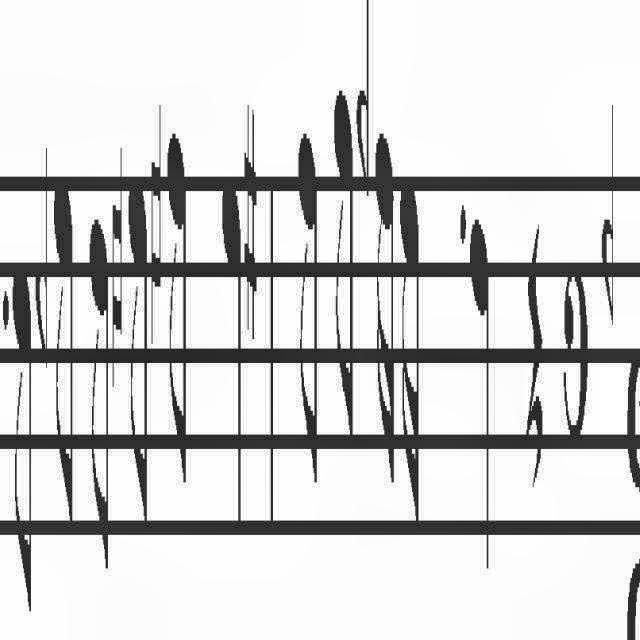Bemol: (601, 96, 619, 336), (356, 0, 375, 204), (36, 139, 50, 373)
Diez: (242, 83, 258, 329)
Eighth-note: (294, 100, 322, 500), (52, 146, 76, 554), (126, 144, 150, 516), (166, 99, 188, 489), (335, 75, 353, 453), (13, 252, 32, 600), (91, 202, 109, 566)
Quarter-note: (470, 182, 490, 586), (221, 144, 241, 526)
Quarter-rest: (523, 211, 549, 517)
Sixteenth-note: (376, 111, 398, 512), (401, 158, 422, 530)
